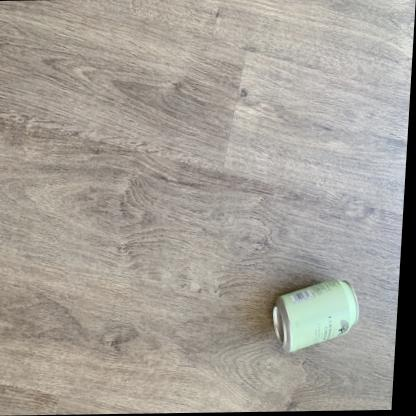trash: (273, 280, 358, 351)
